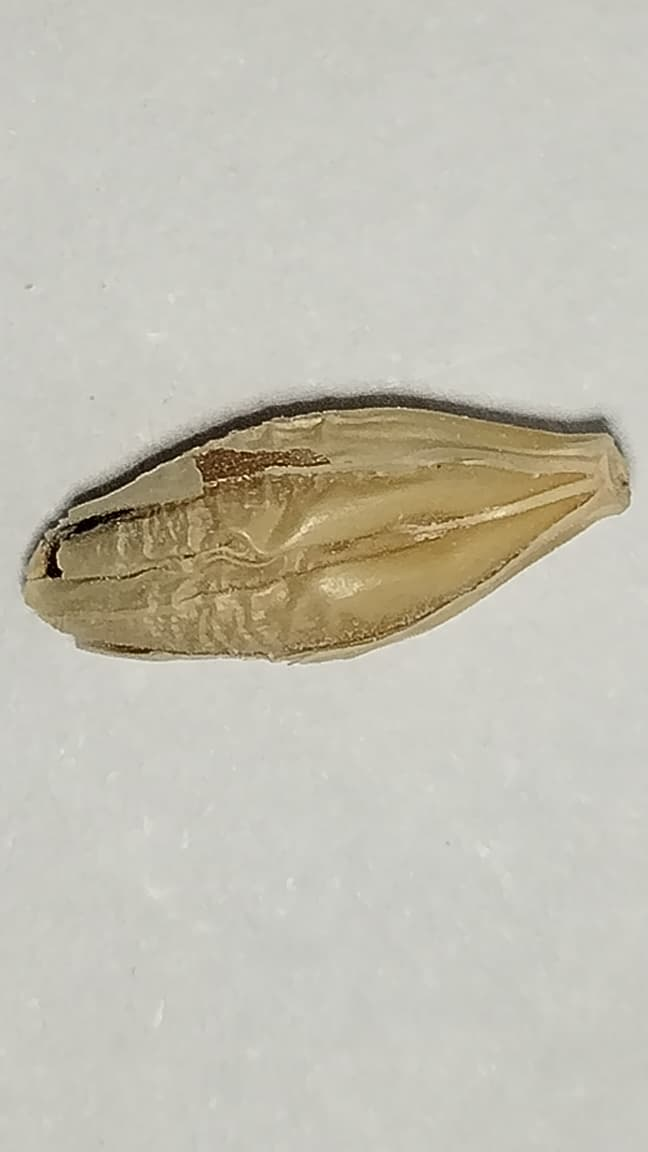healthy-70-60: (24, 405, 628, 658)
insectdamage: (47, 442, 328, 577)
